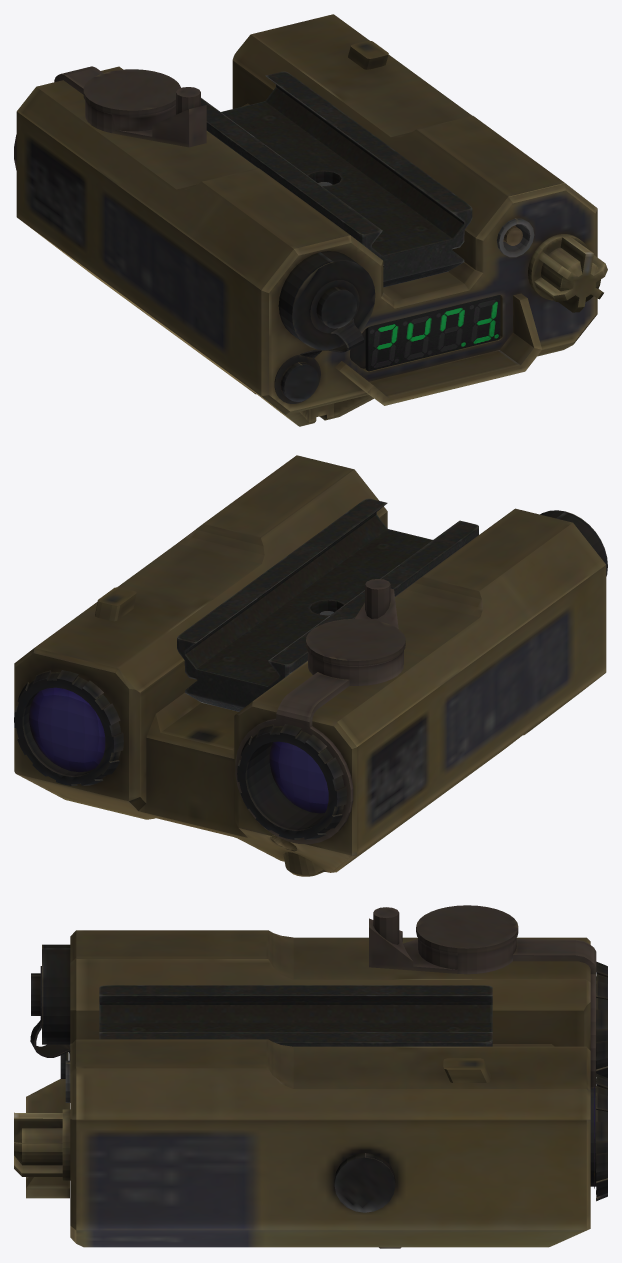
The picture shows the model from 3 angles, top to bottom: view 1: azimuth 30°, elevation 25°; view 2: azimuth 150°, elevation 25°; view 3: azimuth 270°, elevation 25°; orthographic projection. The views are drawn at different scales.
Parts seen in each view (by area): view 1: TW_61605d88ffa6e502ac5e7eeb_PZ_Import; view 2: TW_61605d88ffa6e502ac5e7eeb_PZ_Import; view 3: TW_61605d88ffa6e502ac5e7eeb_PZ_Import.
Part boxes in pixels (left/top/right/bottom): TW_61605d88ffa6e502ac5e7eeb_PZ_Import: left=14, top=14, right=607, bottom=426; TW_61605d88ffa6e502ac5e7eeb_PZ_Import: left=14, top=455, right=607, bottom=876; TW_61605d88ffa6e502ac5e7eeb_PZ_Import: left=14, top=905, right=607, bottom=1248.
Bounding box in the file's own units: 0.0458 × 0.0653 × 0.0297.
Materials: 1 (1 with a texture image).
